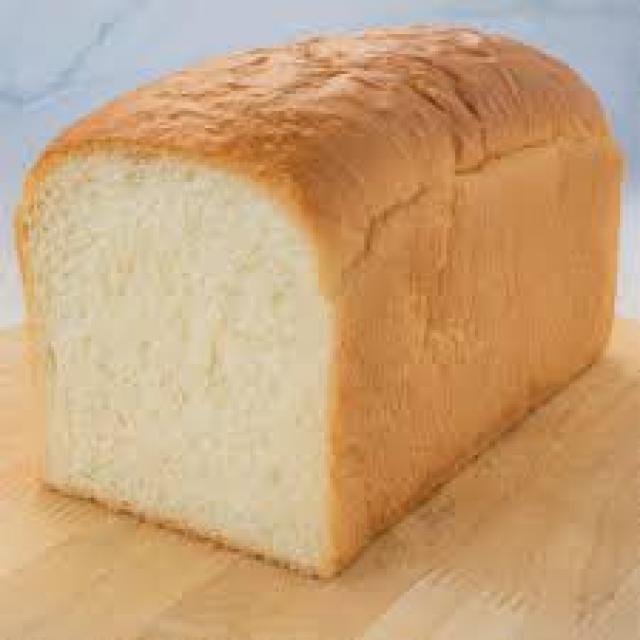bread: (15, 21, 619, 581)
